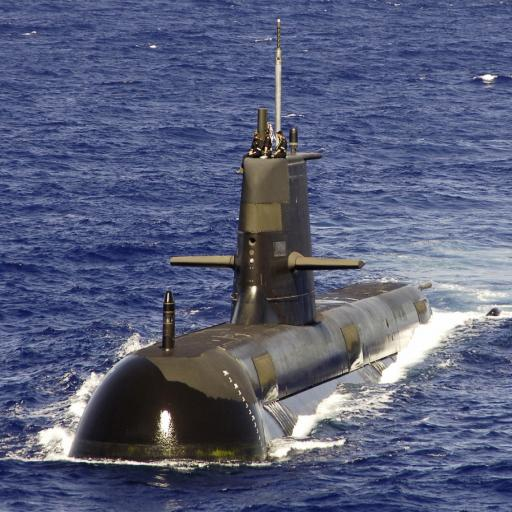submarine: (60, 17, 442, 476)
